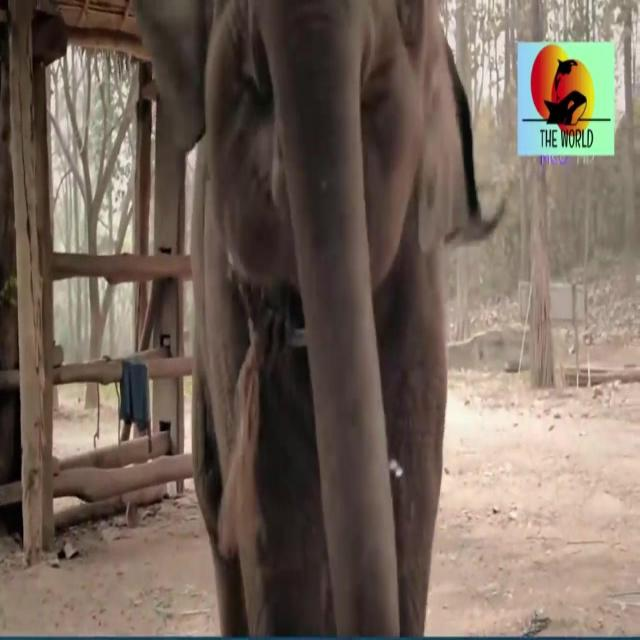Elephant: (162, 3, 459, 637)
